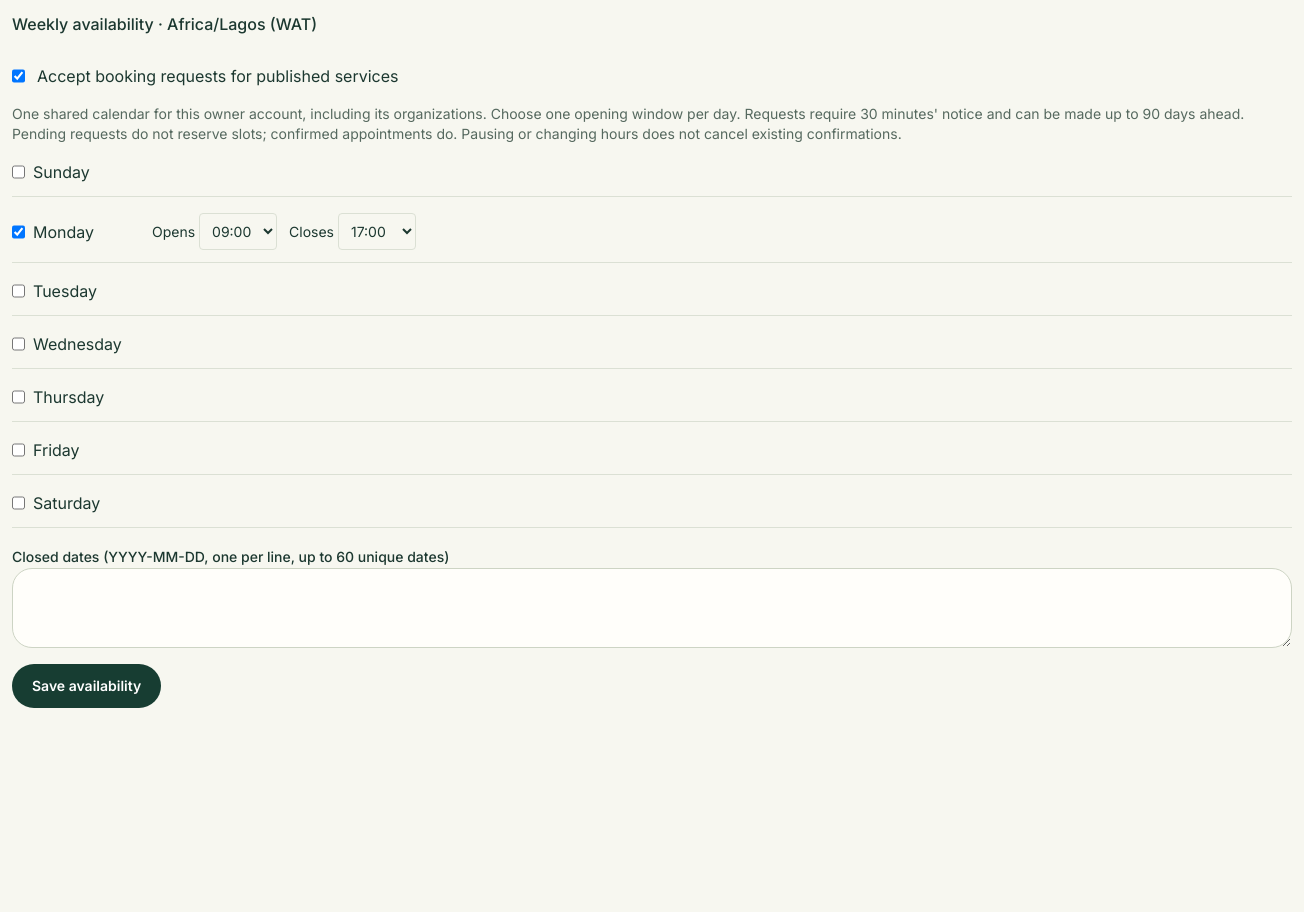
validates hours and closures before networking and retains entries
The width and height of the screenshot is (1304, 912).
Select "08:00" in the dropdown named "Monday closes" at [377, 232], box [338,213,416,250]
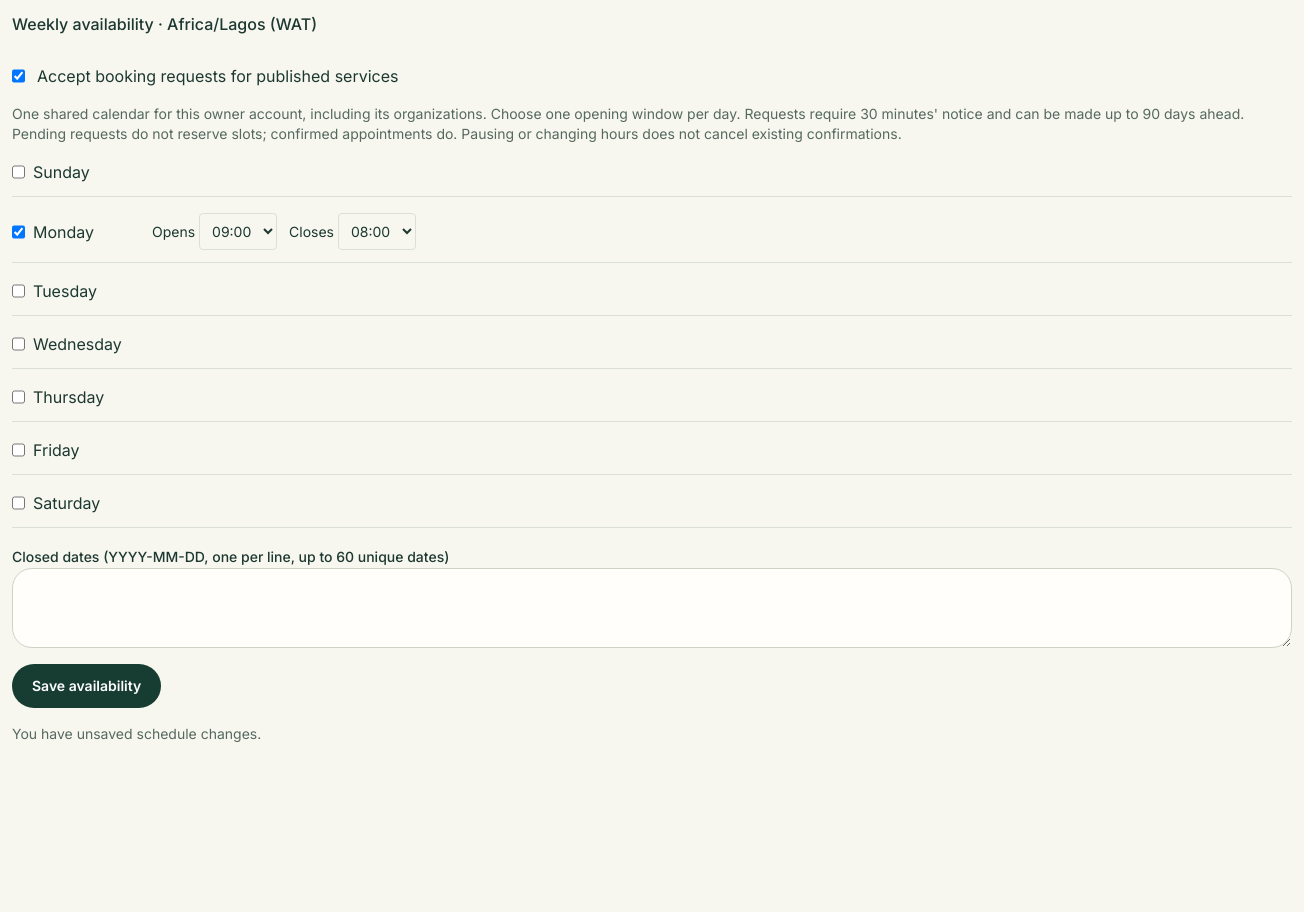
Click the button "Save availability" at [87, 686], box [12,664,161,708]
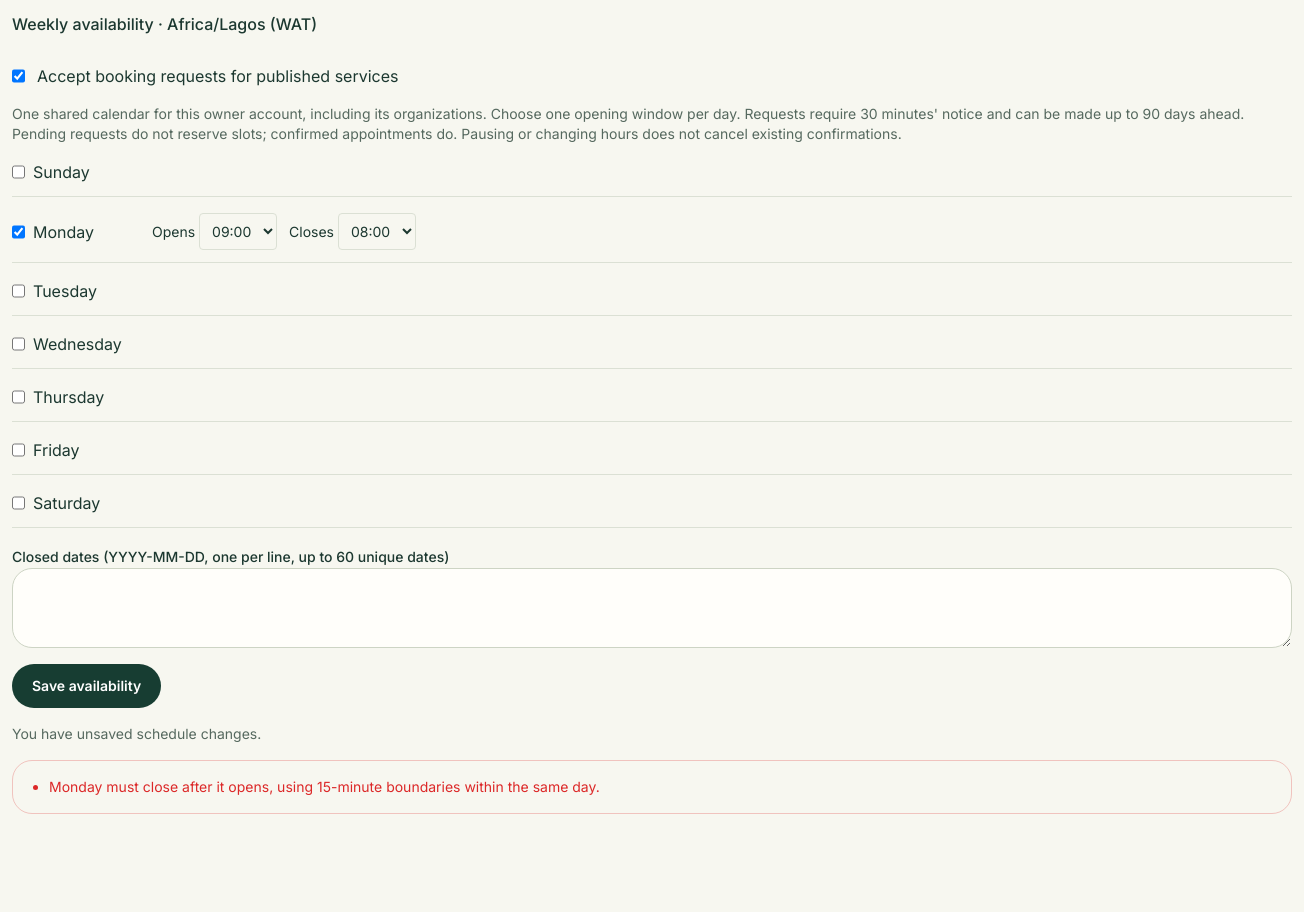
Check: the 2nd message shows "Monday must close after", box [49,778,600,795]
Select "17:00" in the dropdown named "Monday closes" at [377, 232], box [338,213,416,250]
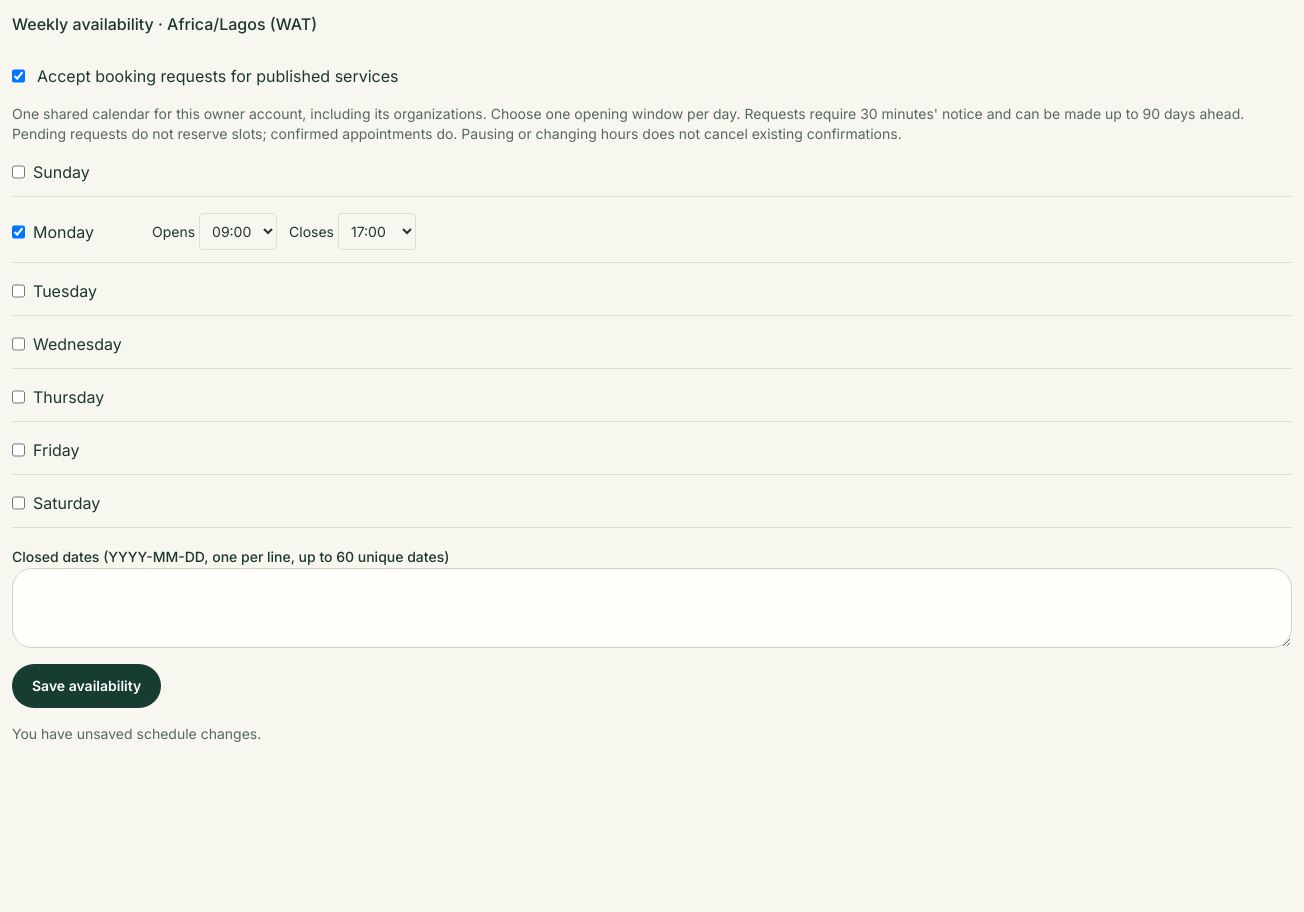
Type "2027-02-29" into the text box labelled "Closed dates" at [652, 608], box [12,568,1292,648]
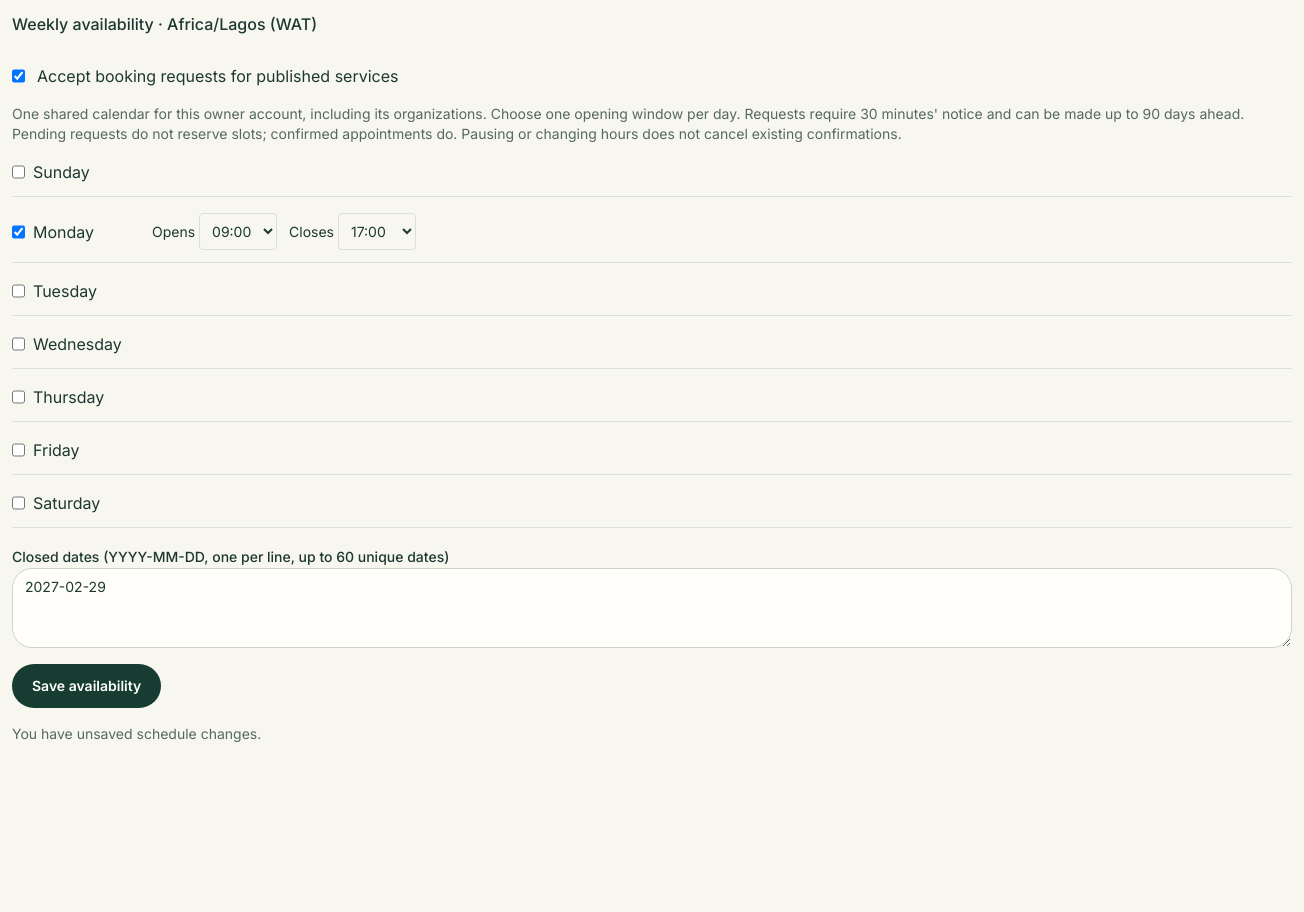
Click the button "Save availability" at [87, 686], box [12,664,161,708]
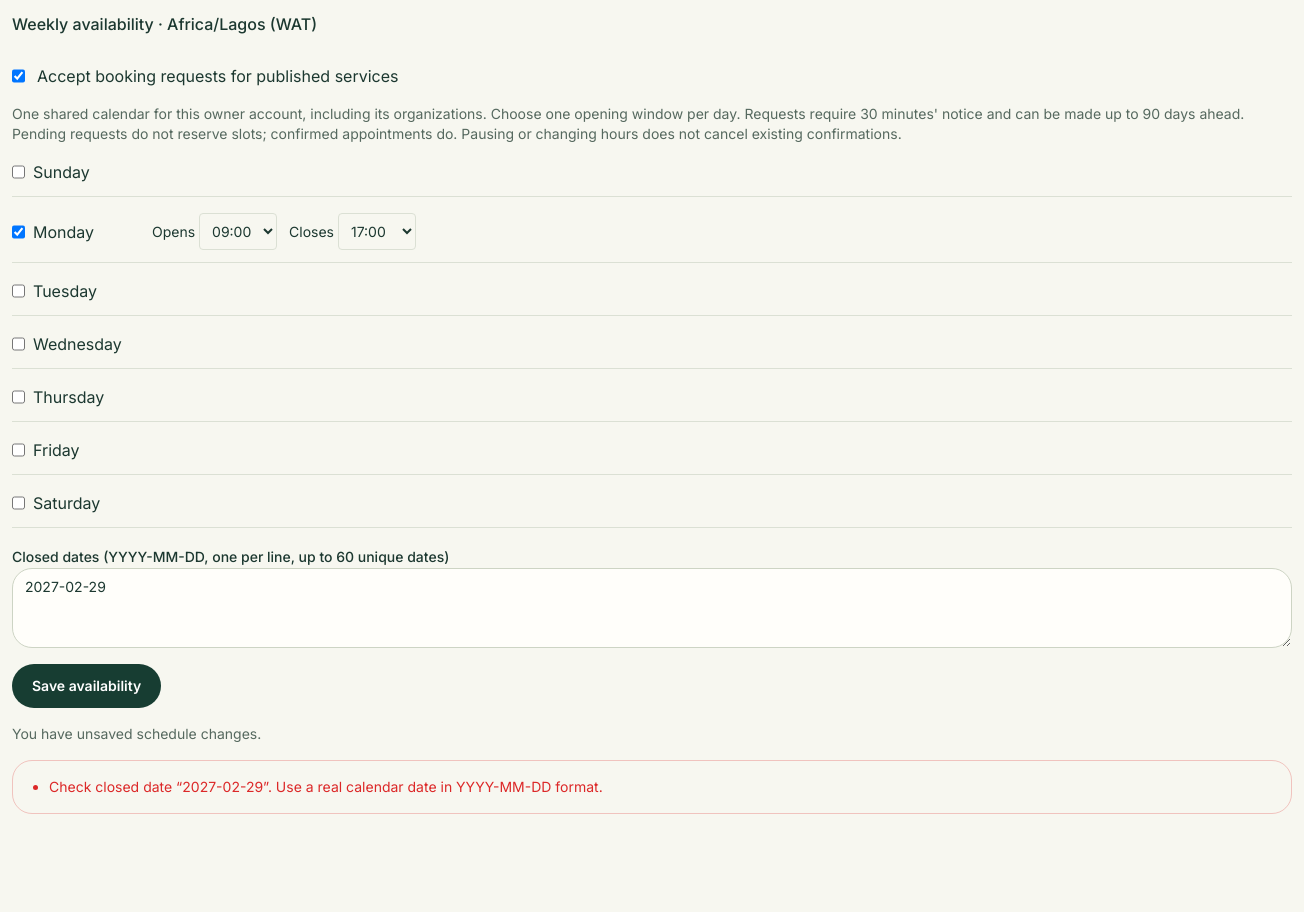
Check: the message "Check closed date “2027-02-29”. Use a real calendar date in YYYY-MM-DD format." is shown, box [12,760,1292,814]
